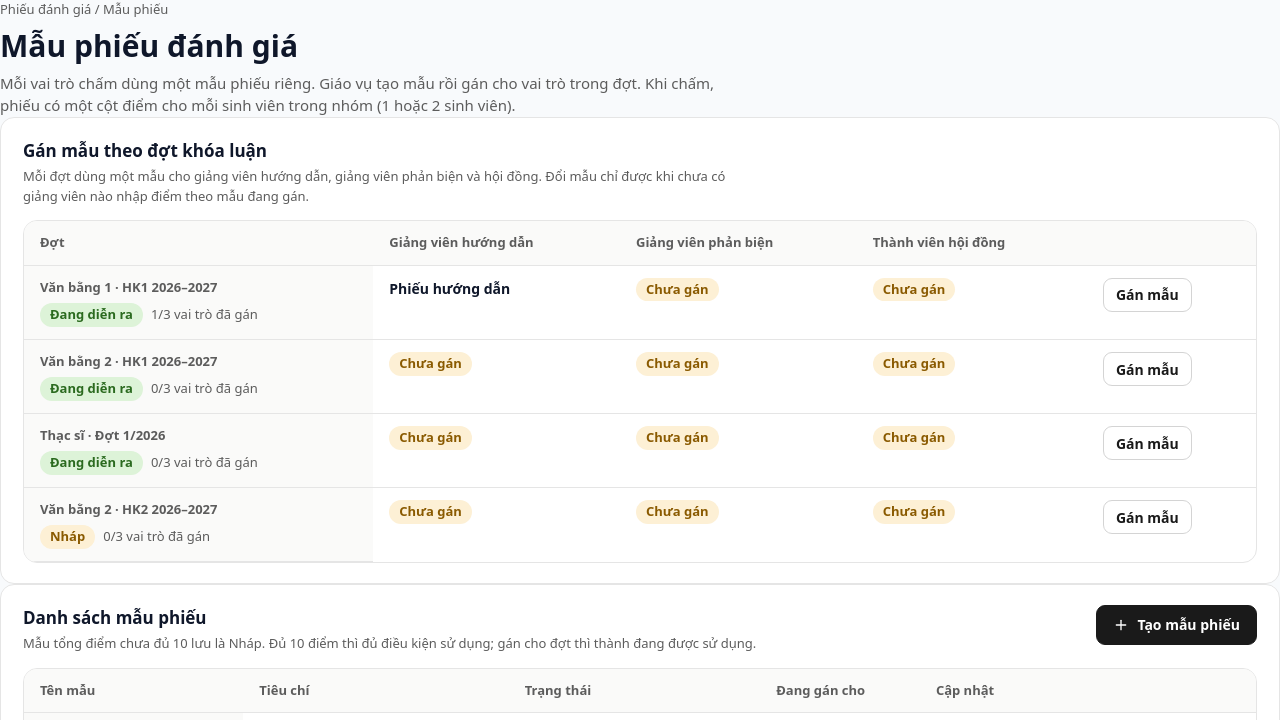
saves a new template with unfinished scores as a draft
Expected: the heading "Danh sách mẫu phiếu" is shown, [23,606,206,628]
Click the button "Tạo mẫu phiếu": (1177, 624) [1096,604,1257,644]
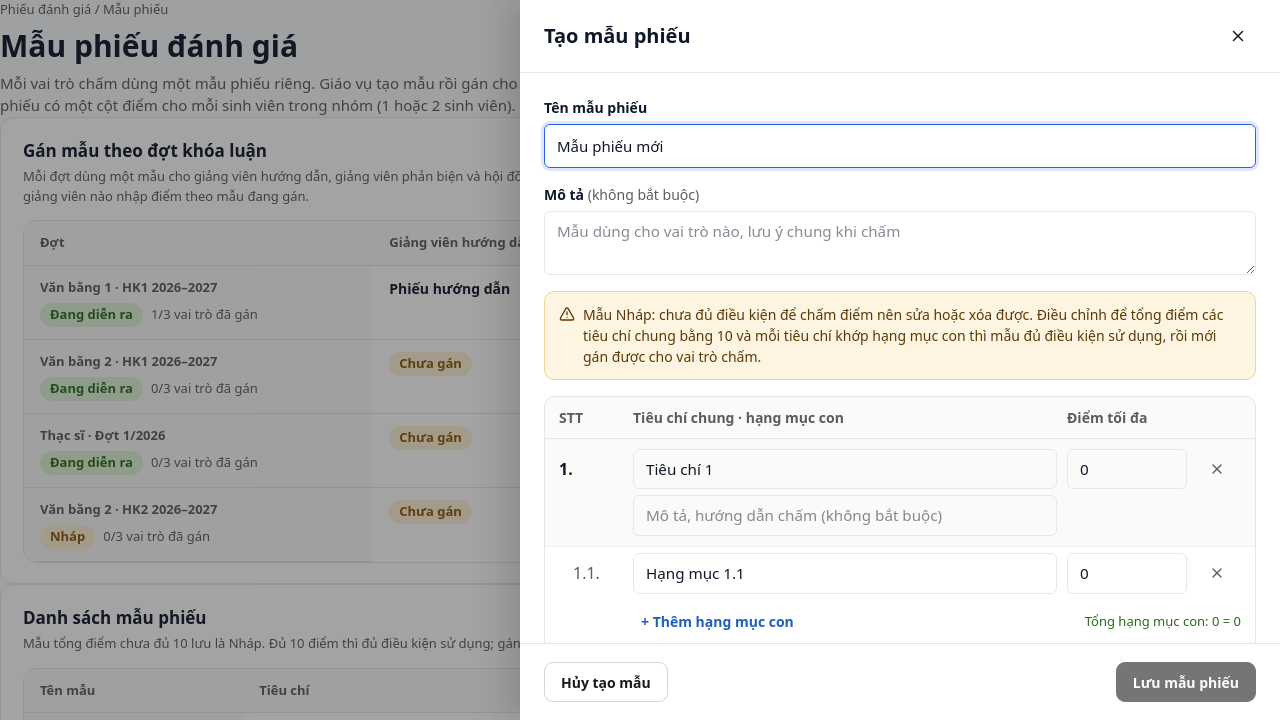
Now the button "Hủy tạo mẫu" is shown, box [544,662,668,702]
Now the text "Mẫu Nháp: chưa đủ điều kiện để chấm điểm" is shown, box [583,305,1223,345]
Replace the text in the field labelled "Tên mẫu phiếu" with "Phiếu thành viên hội đồng": (900, 146) [544,124,1256,168]
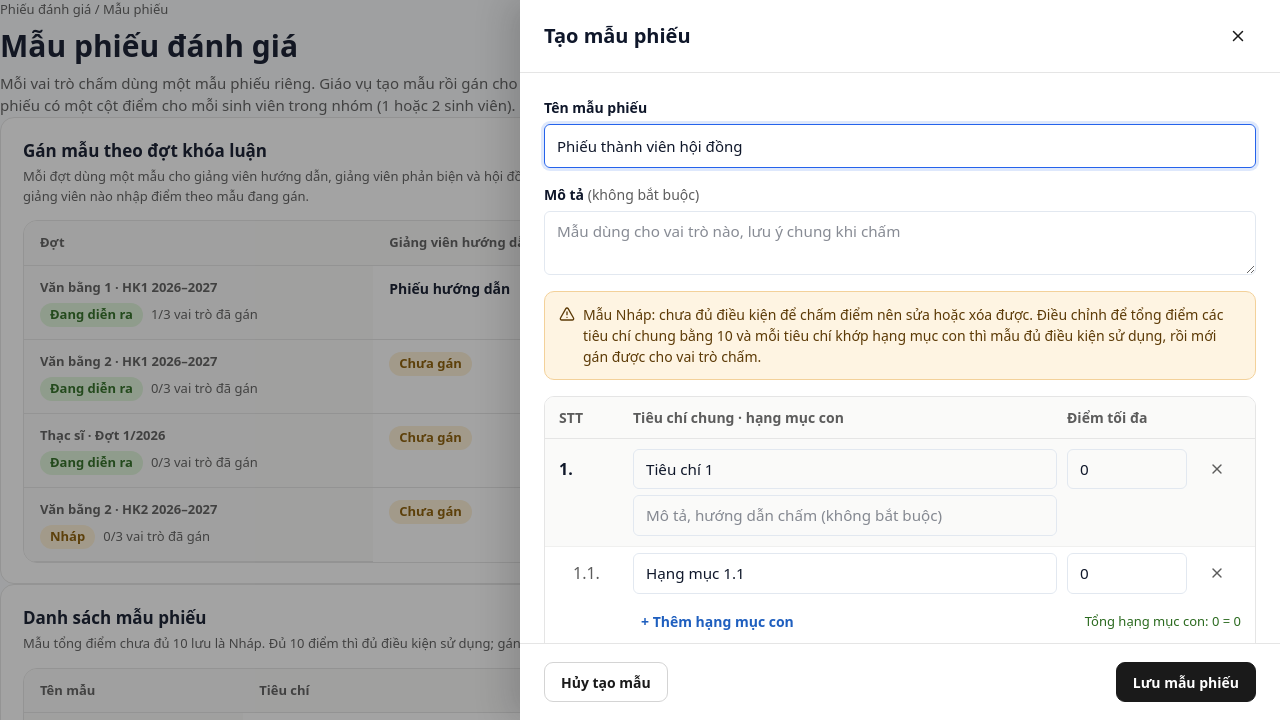
Replace the text in the field named "Điểm tối đa tiêu chí 1" with "4": (1127, 469) [1067,449,1187,489]
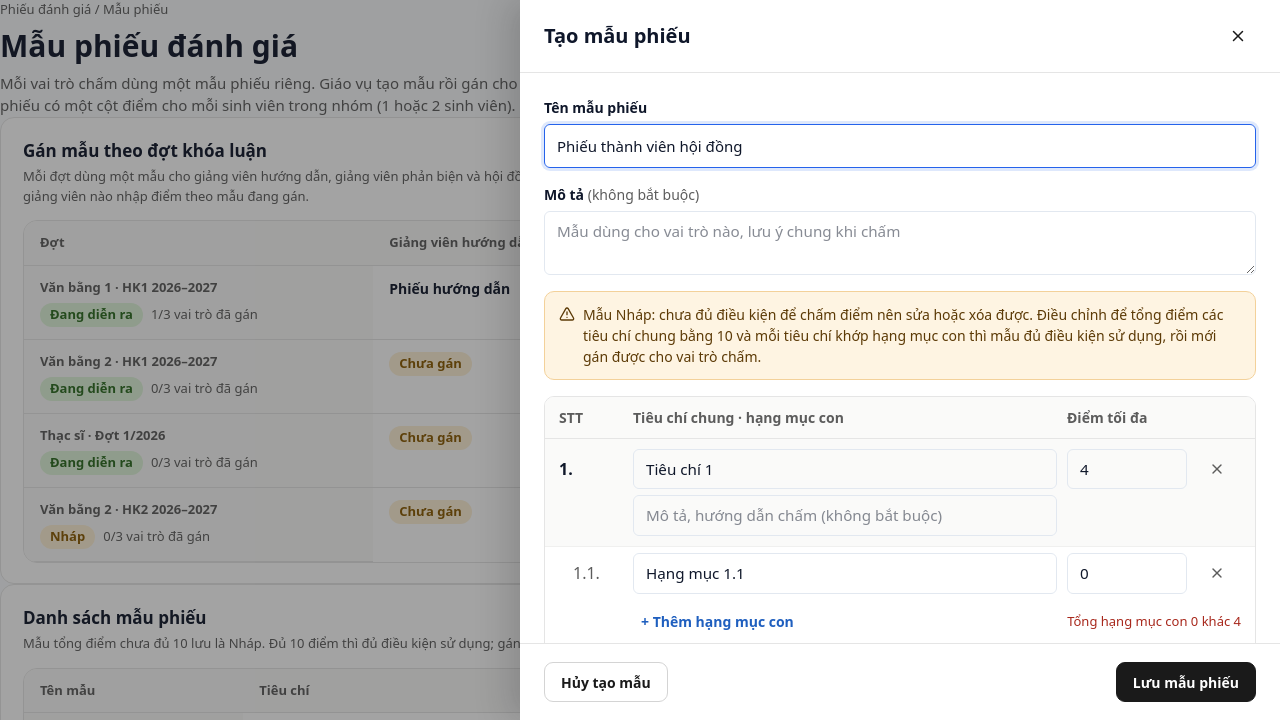
Replace the text in the field named "Điểm tối đa hạng mục 1.1" with "4": (1127, 574) [1067,553,1187,594]
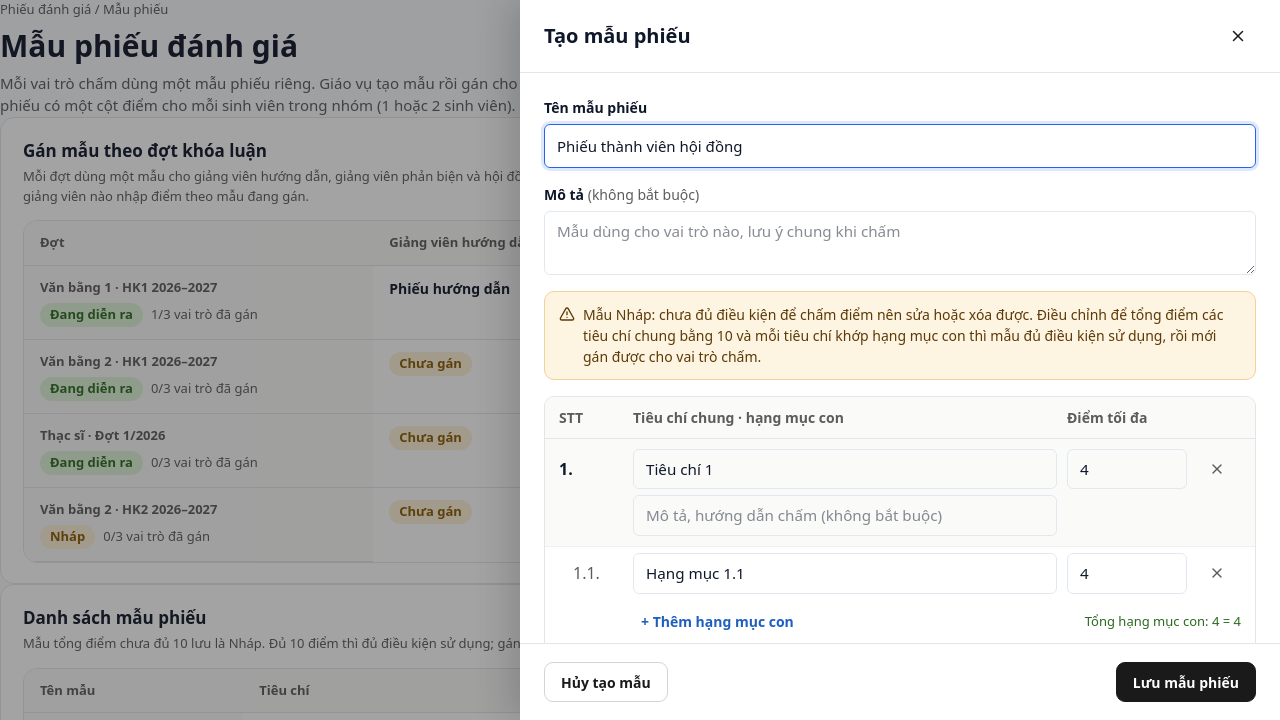
Click the button "Lưu mẫu phiếu": (1186, 682) [1116,662,1256,702]
(page scrolled)
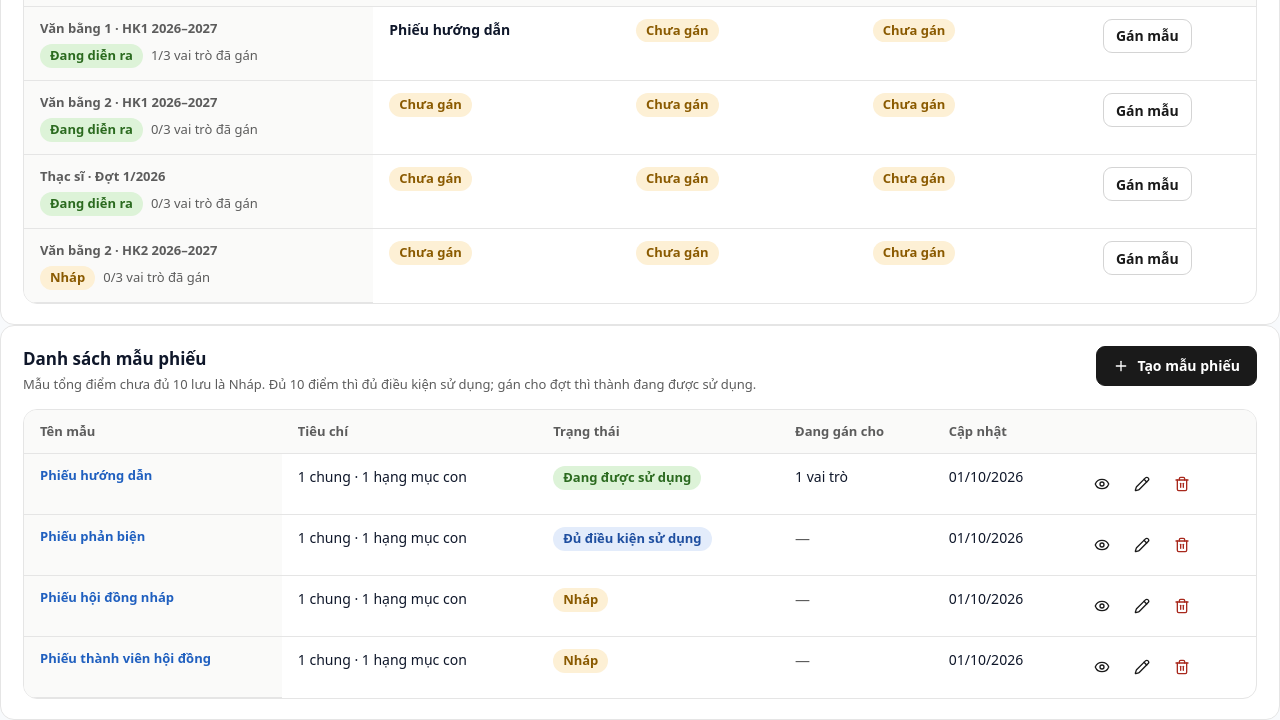
Now the dialog is gone
Now the row that starts with "Phiếu thành viên hội đồng" shows "Nháp", box [563,651,598,669]
